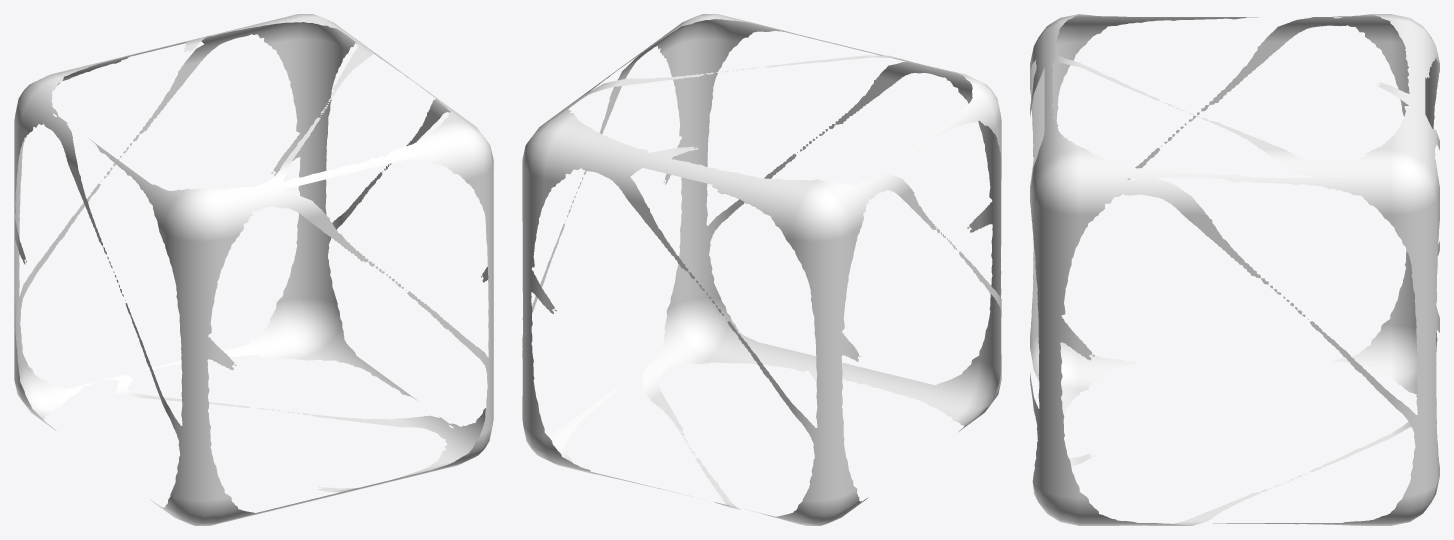
Rendered from iceCube.fbx.
The picture shows the model from 3 angles, left to right: view 1: azimuth 30°, elevation 25°; view 2: azimuth 150°, elevation 25°; view 3: azimuth 270°, elevation 25°; orthographic projection. The views are drawn at different scales.
Parts seen in each view (by area): view 1: iceCube; view 2: iceCube; view 3: iceCube.
Part boxes in pixels (box(x1,y1,x2,y2)): iceCube: box(14, 14, 493, 525); iceCube: box(522, 14, 1001, 525); iceCube: box(1030, 14, 1439, 525).
Size of the model in its own units: 0.5557 by 0.5557 by 0.5557.
